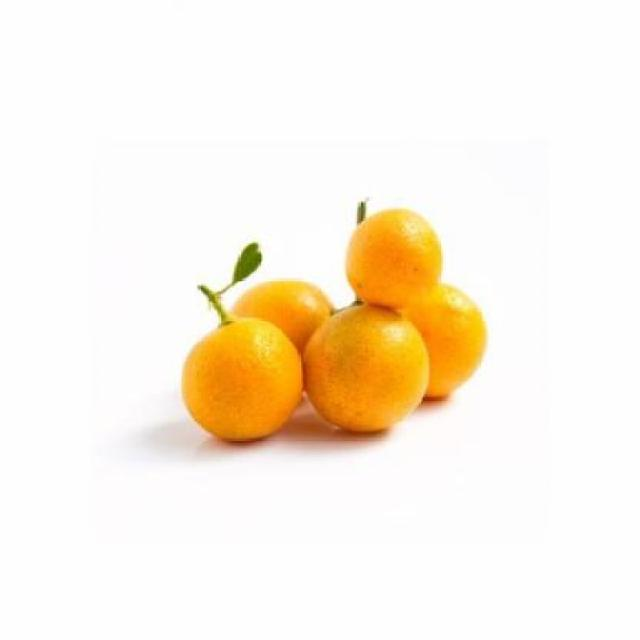Orange: (302, 301, 429, 434), (180, 316, 303, 442), (343, 205, 442, 308), (403, 282, 488, 398), (231, 277, 332, 354)
